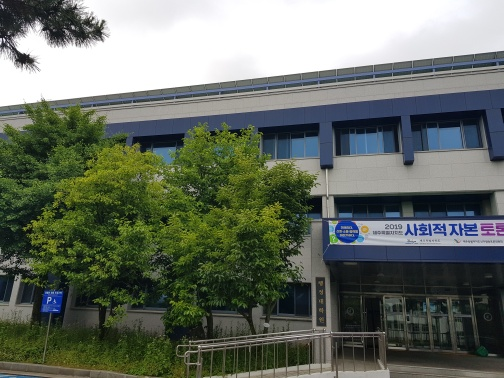College of Social Sciences: (250, 53, 504, 373), (310, 80, 504, 184)
